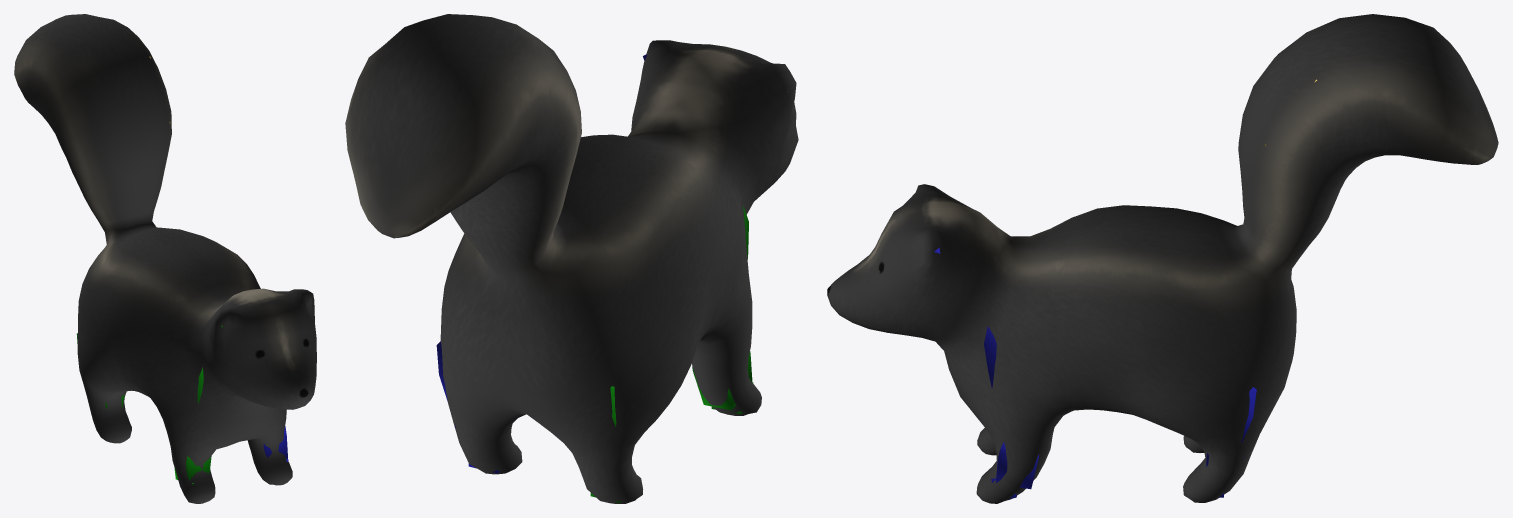
The model's file is skunks-pose-neutral.obj.
3 renders of one model, left to right at view 1: azimuth 30°, elevation 25°; view 2: azimuth 150°, elevation 25°; view 3: azimuth 270°, elevation 25°, orthographic. The views are drawn at different scales.
Visible parts, largest first — view 1: PM3D_Sphere3D_3; view 2: PM3D_Sphere3D_3; view 3: PM3D_Sphere3D_3.
Part boxes in pixels (<box>): PM3D_Sphere3D_3: <box>14,14,316,503</box>; PM3D_Sphere3D_3: <box>345,14,798,503</box>; PM3D_Sphere3D_3: <box>827,14,1498,503</box>.
Bounding box in the file's own units: 3.37 × 7.72 × 10.37.
9 materials, 1 textured.
